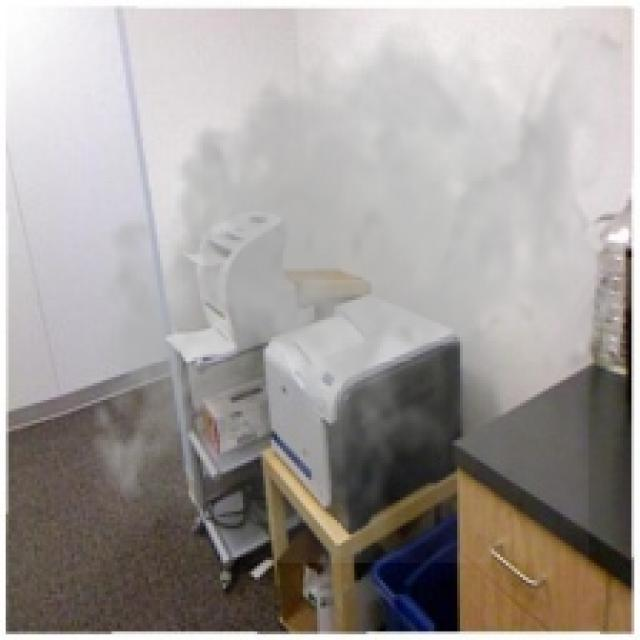Smoke: (74, 3, 623, 563)
